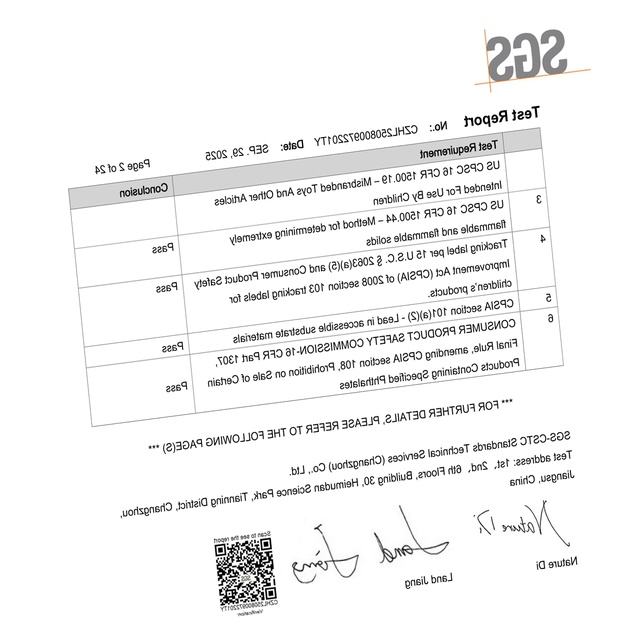sgs: (487, 28, 567, 81)
